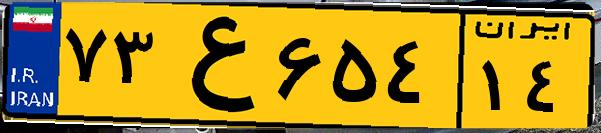1: (475, 38, 525, 113)
3: (110, 28, 158, 98)
4: (385, 28, 445, 110), (525, 38, 570, 115)
5: (330, 28, 385, 110)
6: (270, 28, 330, 110)
7: (57, 26, 110, 100)
ع: (158, 12, 270, 120)
